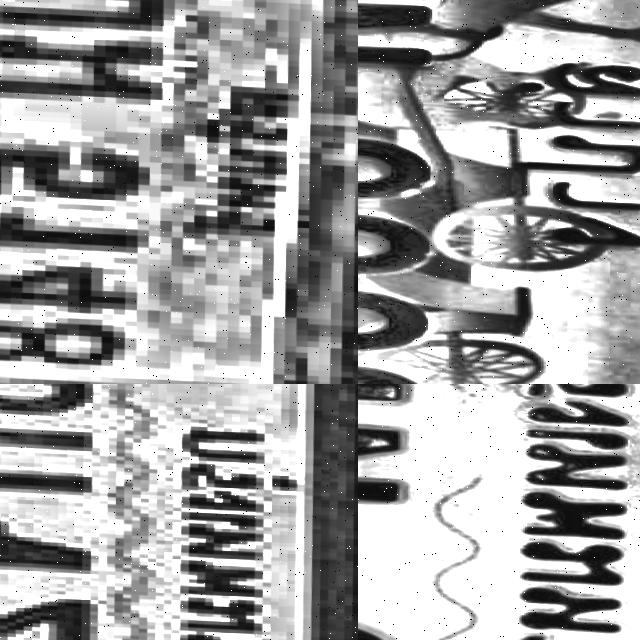license-plate: (0, 0, 346, 384), (358, 0, 640, 384), (0, 384, 358, 640), (358, 384, 640, 640)
